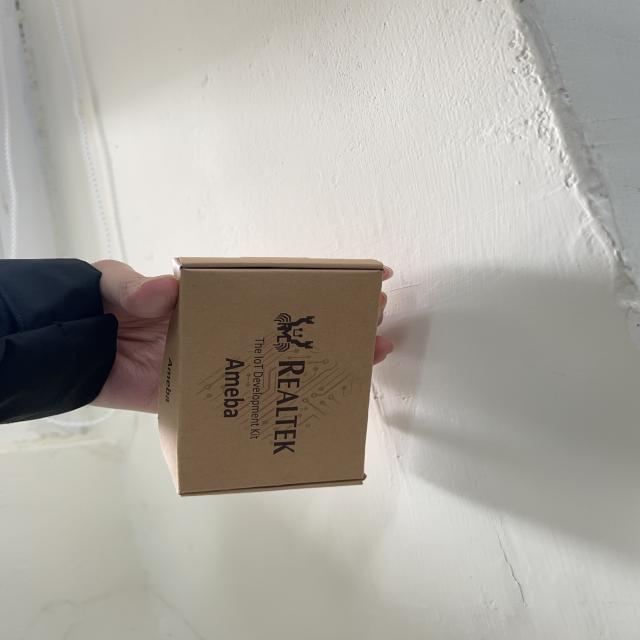box: (149, 213, 403, 516)
